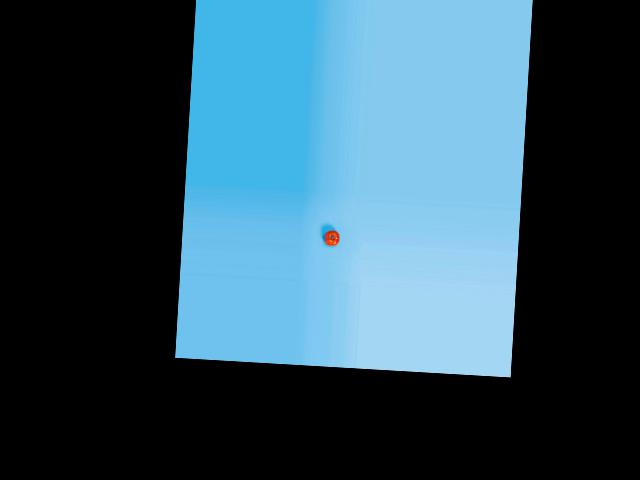tomato: (324, 229, 340, 246)
